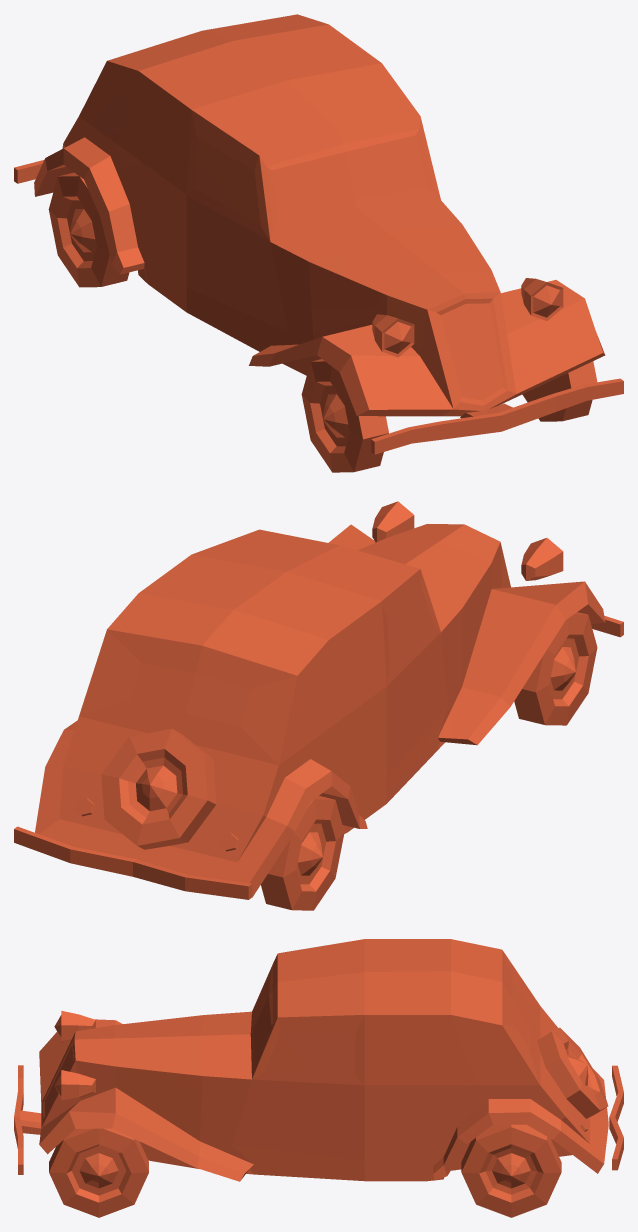
File: car-veteran.glb
3 views of the same model, one above another, from view 1: azimuth 30°, elevation 25°; view 2: azimuth 150°, elevation 25°; view 3: azimuth 270°, elevation 25° (orthographic). The views are drawn at different scales.
Parts seen in each view (by area): view 1: car-veteran-base, car-veteran-wheel_FR, car-veteran-wheel_BR, car-veteran-wheel_FL; view 2: car-veteran-base, car-veteran-wheel_BR, car-veteran-wheel_FR; view 3: car-veteran-base, car-veteran-wheel_BL, car-veteran-wheel_FL.
Part boxes in pixels (<box>): car-veteran-base: <box>14,14,623,454</box>; car-veteran-wheel_FR: <box>301,359,388,472</box>; car-veteran-wheel_BR: <box>48,172,129,287</box>; car-veteran-wheel_FL: <box>522,361,597,421</box>; car-veteran-base: <box>14,501,623,899</box>; car-veteran-wheel_BR: <box>261,796,344,910</box>; car-veteran-wheel_FR: <box>514,612,597,725</box>; car-veteran-base: <box>14,939,623,1181</box>; car-veteran-wheel_BL: <box>461,1124,561,1217</box>; car-veteran-wheel_FL: <box>49,1128,148,1217</box>.
Bounding box in the file's own units: 1.72 × 1.59 × 4.4.
